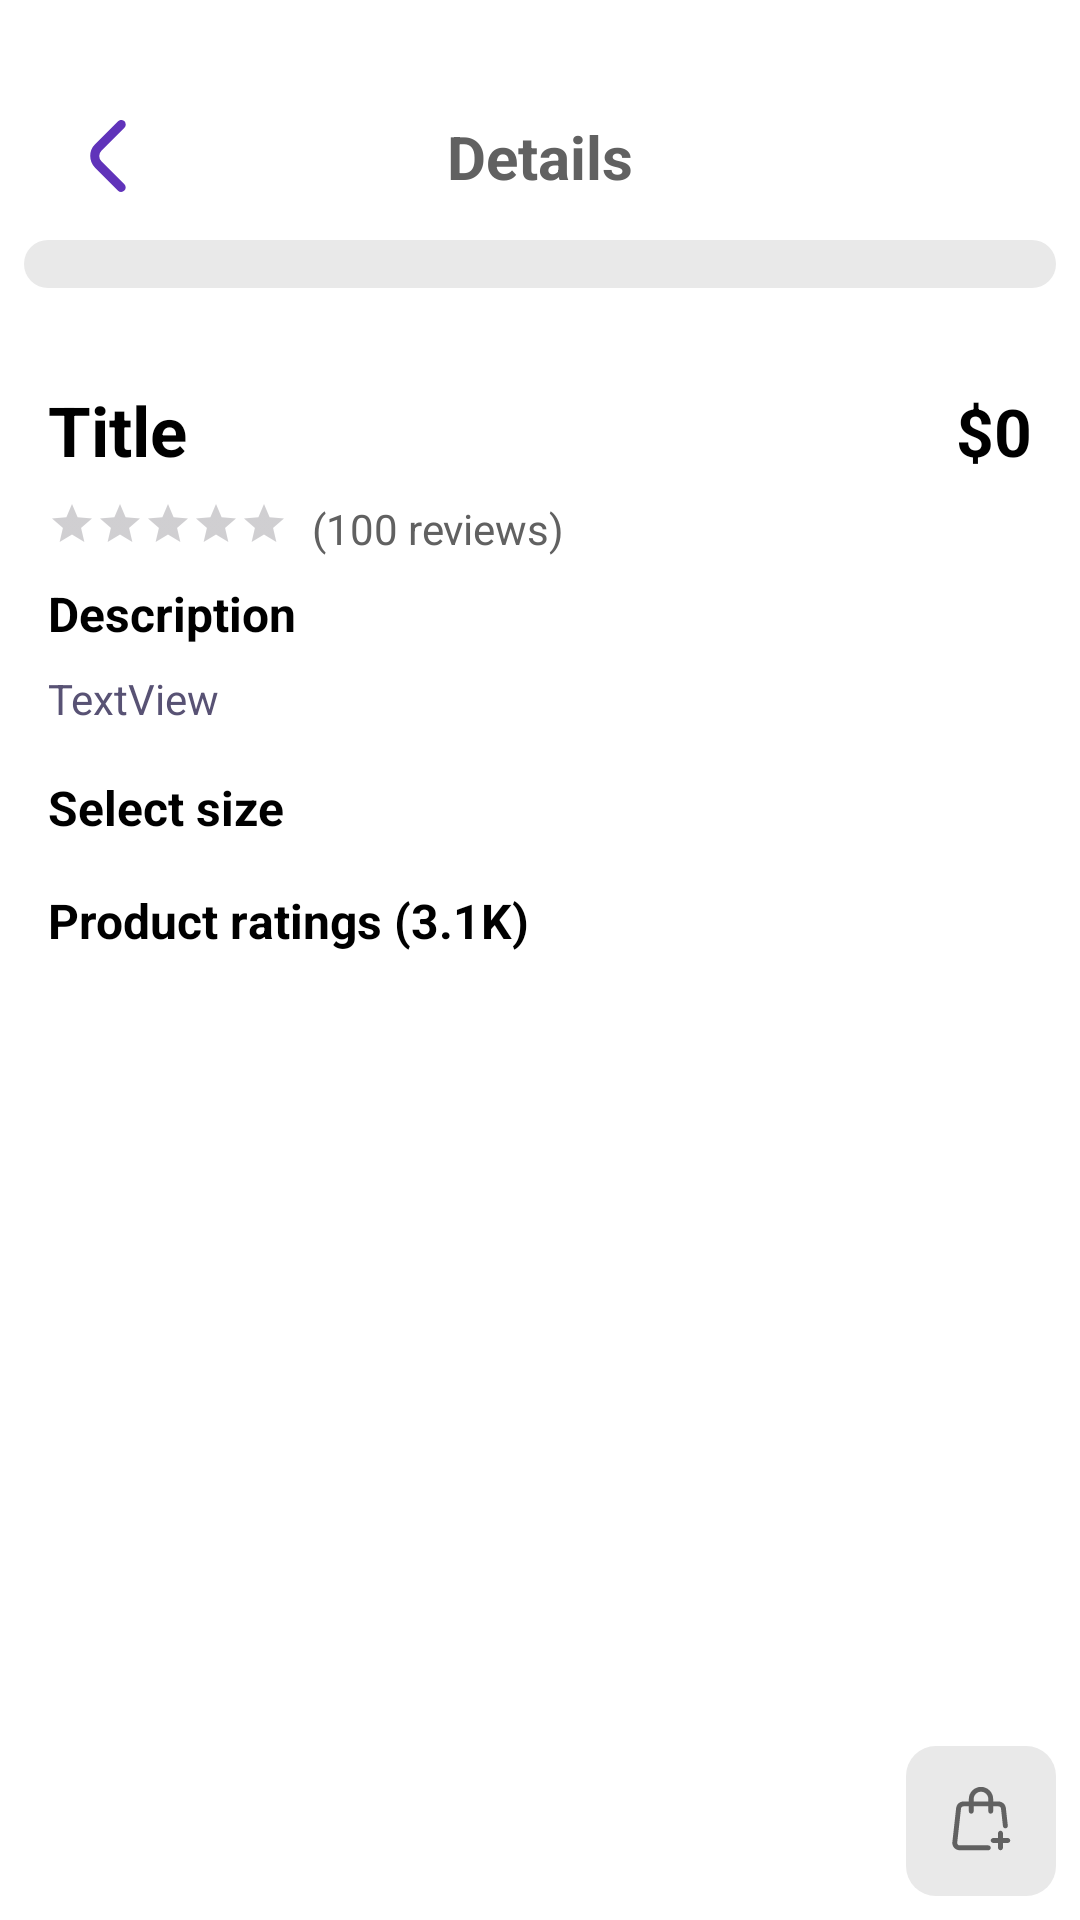

Icons on this 1080 × 1920 Android screen, each with its box as (x1, y1, x2, y2):
add to cart: (906, 1746, 1056, 1896)
angle left: (90, 120, 126, 192)
